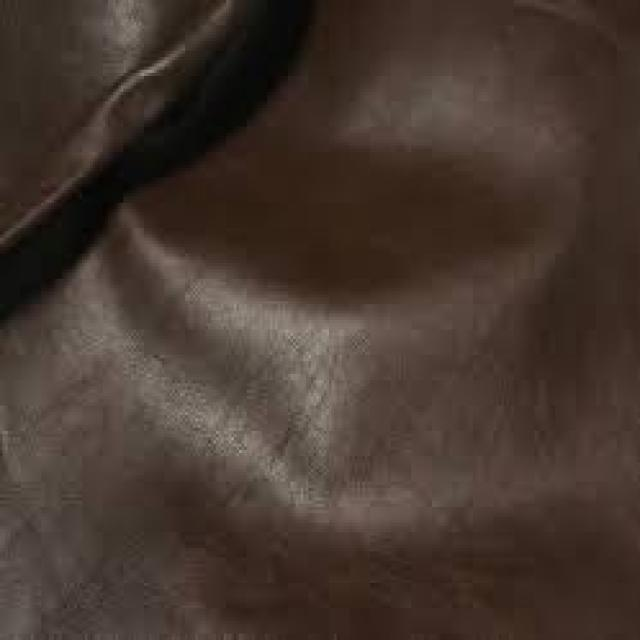Crease: (82, 440, 612, 576), (195, 246, 478, 481)
